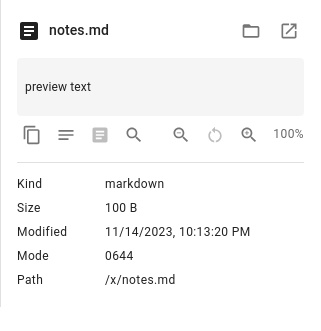
Test: PreviewPane — text body zoom + copy controls (0.2.315) › steps the font size and updates the percentage readout
Expected: the text "preview text" is shown, [25,80,91,94]
Click the button named "Zoom text in" at (249, 135), box [234,120,264,150]
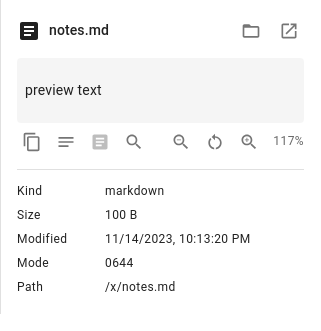
Expected: the text "117%" is shown, [268,132,304,152]
// Reset returns to 100%.
Click the button named "Reset text zoom" at (215, 142), box [200,127,230,157]
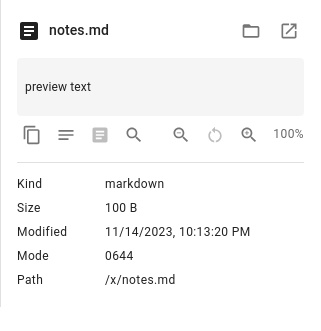
Expected: the text "100%" is shown, [268,125,304,145]
// Zoom out lands at 10/12 ≈ 83%.
Click the button named "Zoom text out" at (181, 135), box [166,120,196,150]
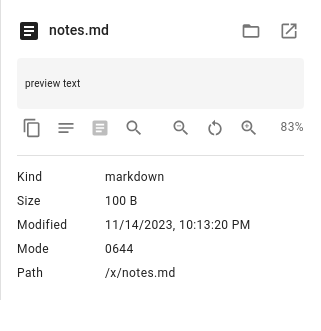
Expected: the text "83%" is shown, [280,120,304,134]
